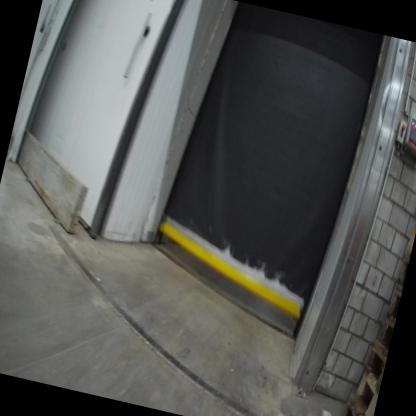pallet: (346, 362, 384, 416), (358, 337, 389, 397), (337, 382, 378, 416), (368, 315, 395, 365), (385, 283, 403, 325), (391, 255, 409, 290), (402, 223, 416, 263)
